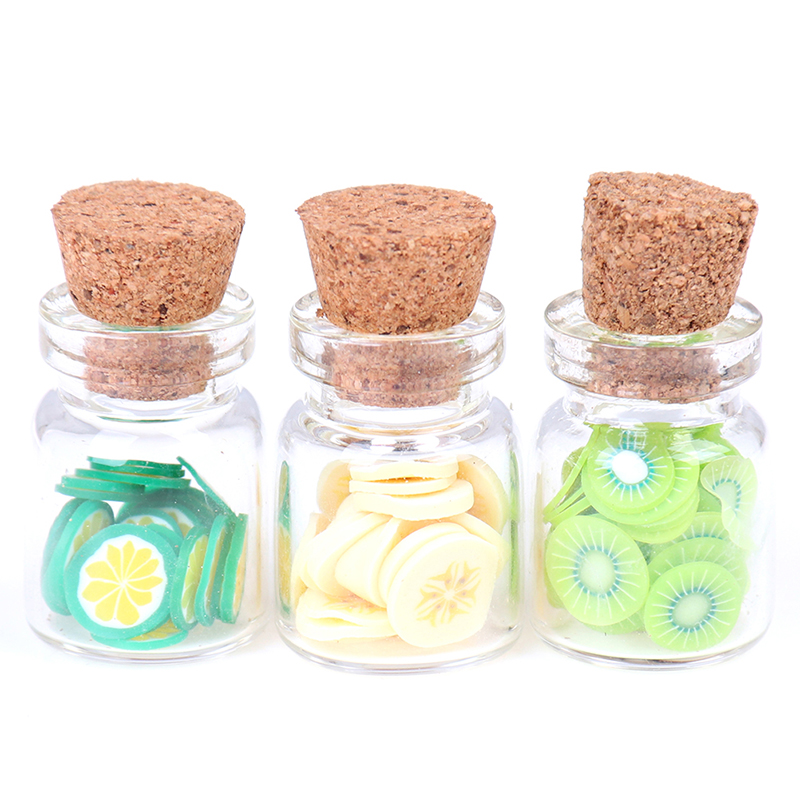glass_bottleww: (474, 43, 780, 750), (239, 74, 533, 754), (9, 117, 273, 741)
